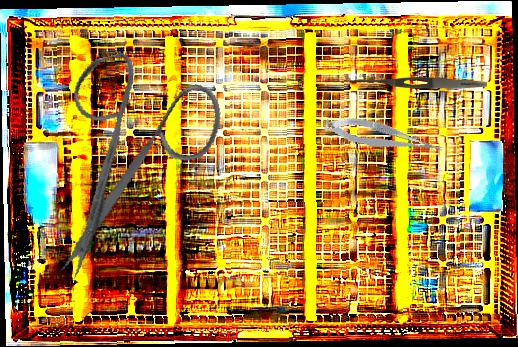Dressing Forceps: (349, 75, 488, 91)
Iris Scissors: (15, 34, 250, 282)
Micro Scissor: (322, 107, 445, 168)
